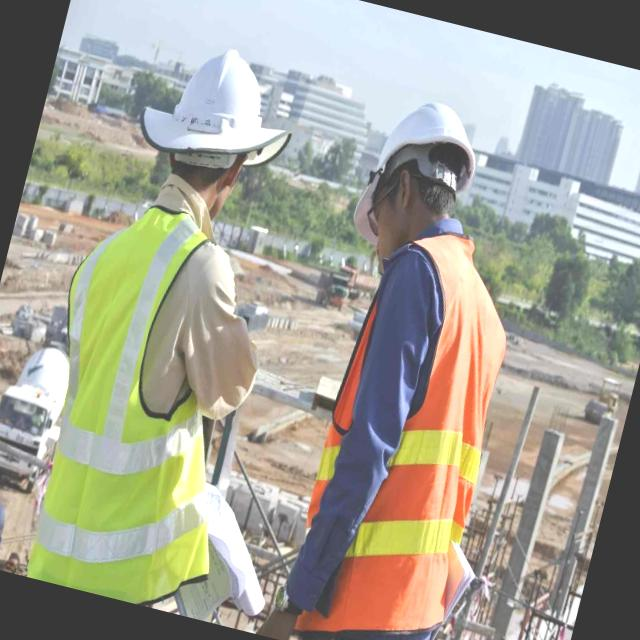helmet: (130, 30, 307, 182), (373, 85, 495, 184)
vest: (277, 212, 534, 640), (6, 195, 252, 608)
